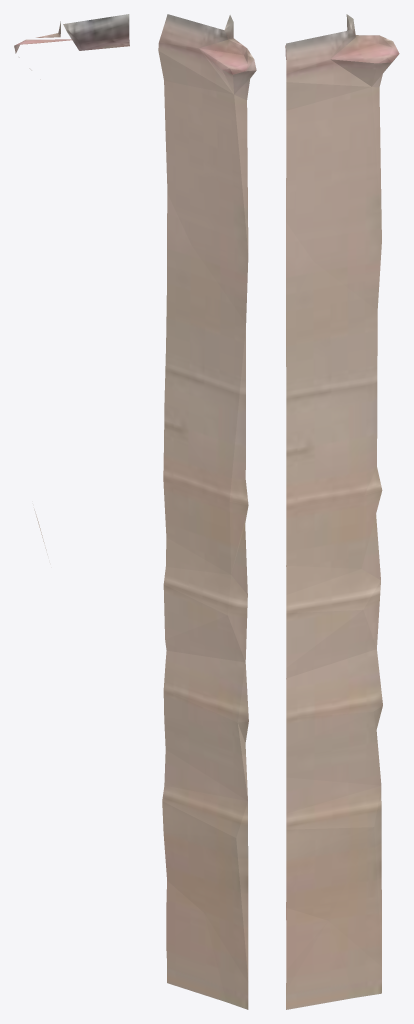
The model's file is Tile_+011_+008_L19_00000140t1.glb.
The picture shows the model from 3 angles, left to right: view 1: azimuth 90°, elevation 25°; view 2: azimuth 210°, elevation 25°; view 3: azimuth 270°, elevation 25°; orthographic projection.
Visible parts, largest first — view 1: rtc; view 2: rtc; view 3: rtc.
Boxes of the visible parts, <box> form: rtc: <box>14,14,129,554</box>; rtc: <box>158,14,256,1009</box>; rtc: <box>285,14,399,1009</box>.
Size of the model in its own units: 2.62 by 57.99 by 6.13.
Materials: 1 (1 with a texture image).
